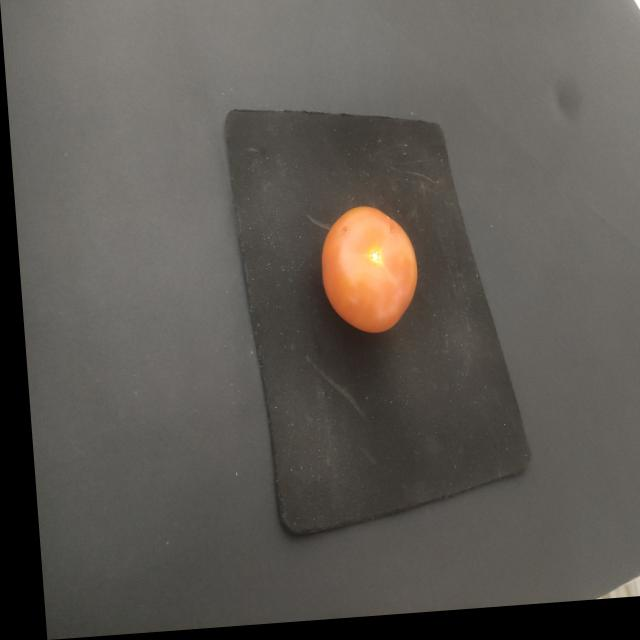sari: (305, 201, 435, 350)
